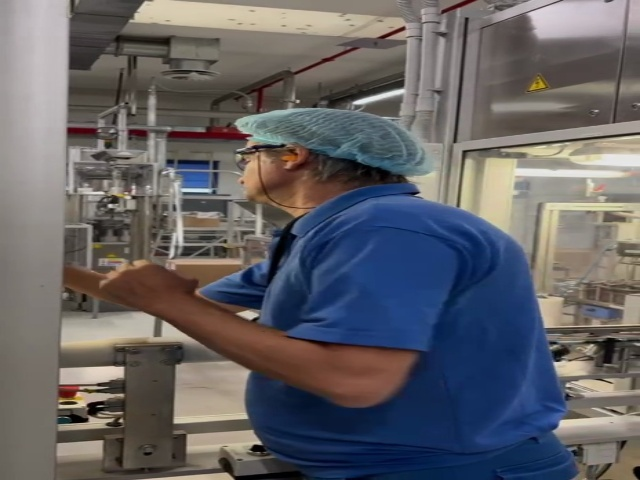Earplug: (273, 145, 307, 176)
Hairnet: (235, 106, 430, 174)
No_Helmet: (234, 107, 427, 171)
No_Vest: (263, 194, 552, 465)
Person: (235, 103, 564, 480)
Safety_Goggles: (230, 142, 288, 166)
